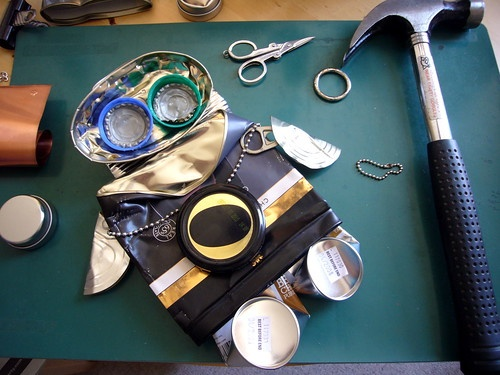hammer: (345, 1, 498, 374)
